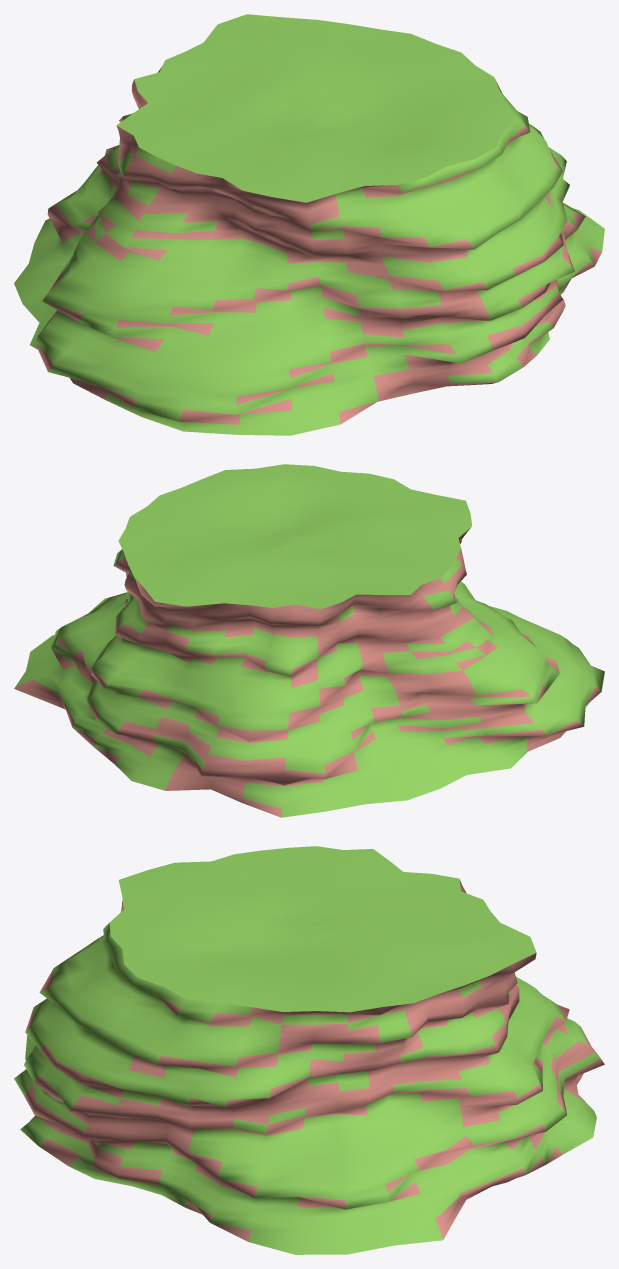
The model's file is falaise.glb.
The picture shows the model from 3 angles, top to bottom: view 1: azimuth 30°, elevation 25°; view 2: azimuth 150°, elevation 25°; view 3: azimuth 270°, elevation 25°; orthographic projection. The views are drawn at different scales.
Visible parts, largest first — view 1: Falaise; view 2: Falaise; view 3: Falaise.
Part boxes in pixels (x1=…): Falaise: x1=14, y1=14, x2=604, y2=435; Falaise: x1=14, y1=464, x2=604, y2=817; Falaise: x1=14, y1=846, x2=604, y2=1254.
Bounding box in the file's own units: 39.68 × 12.16 × 34.65.
